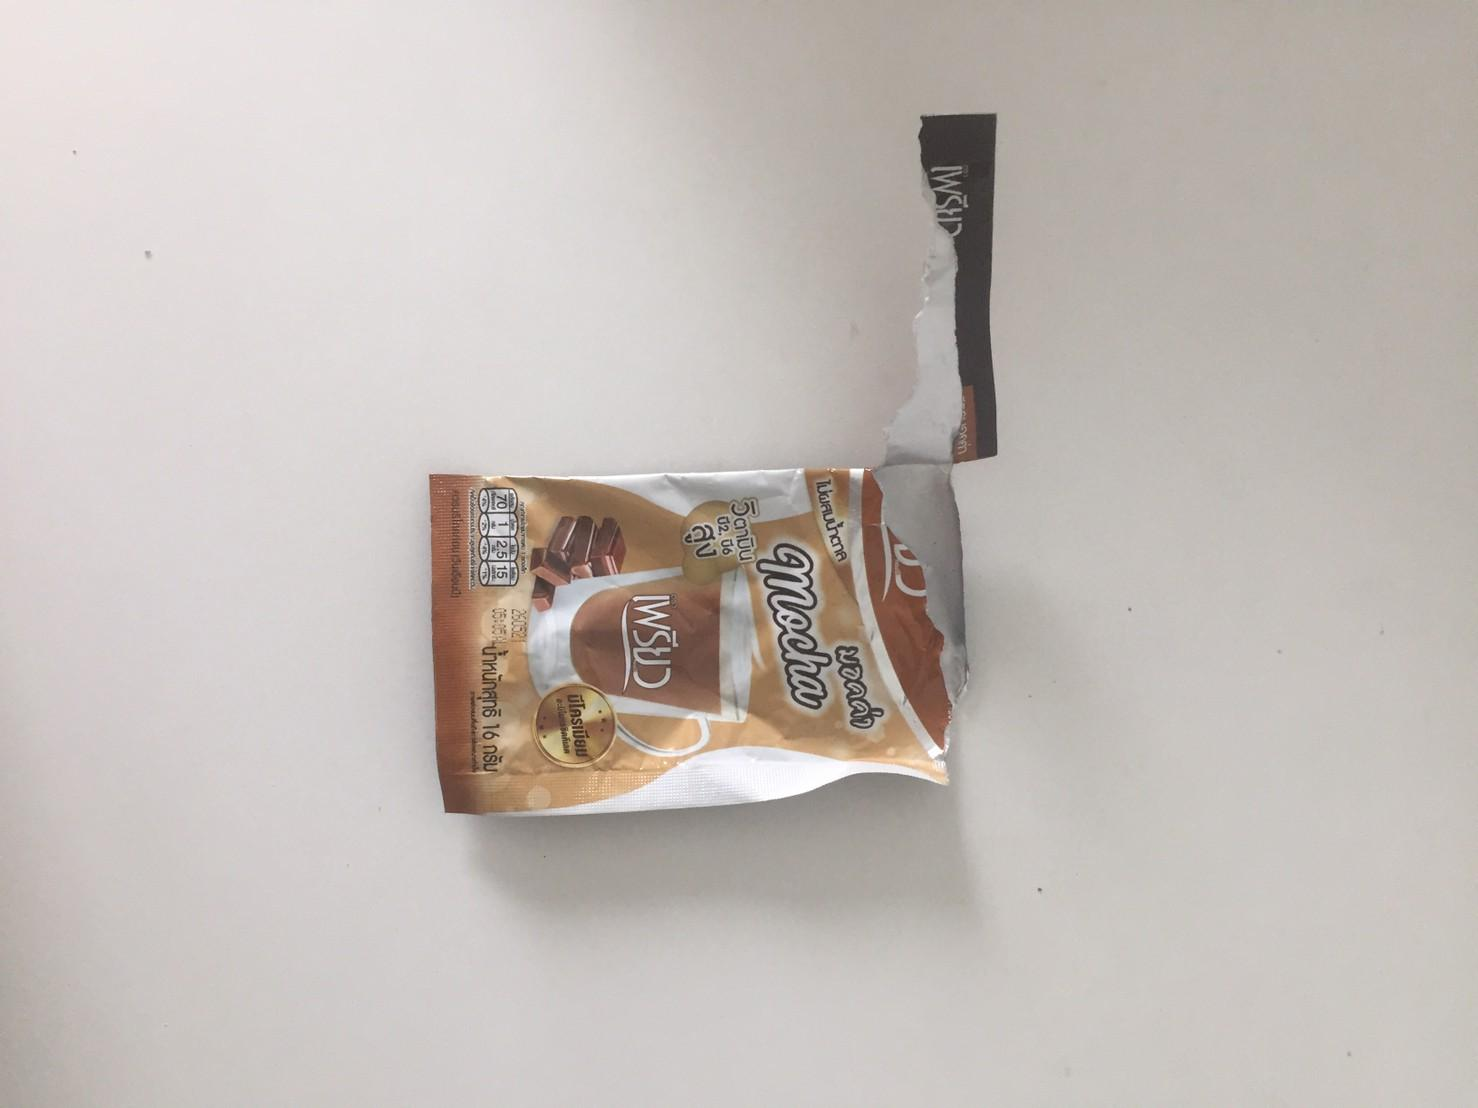plastic: (415, 457, 982, 841)
